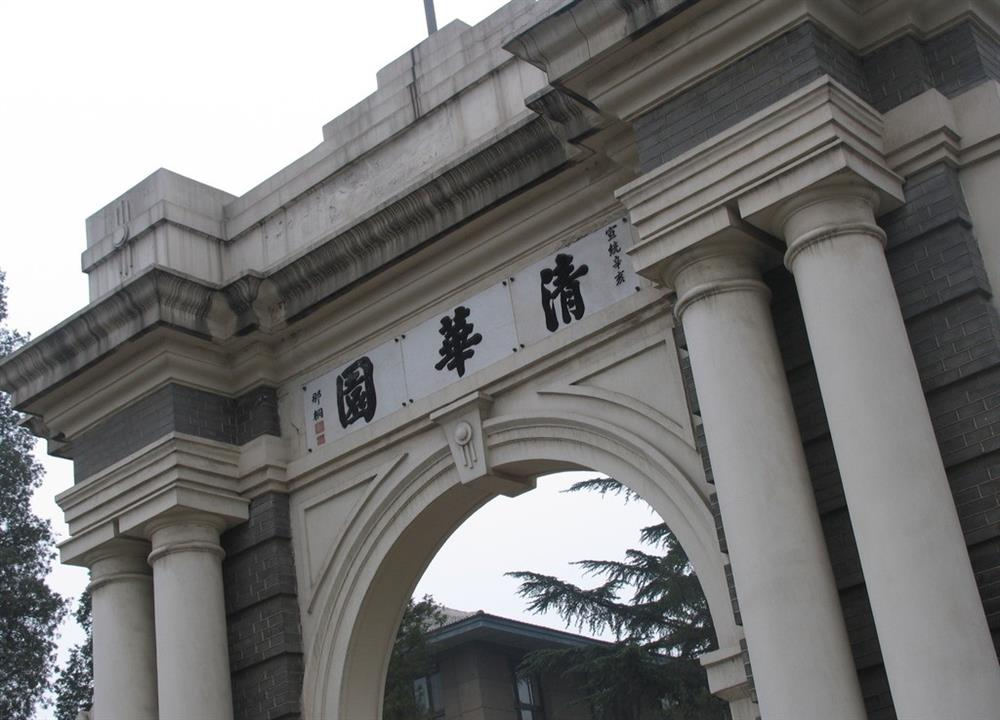Tsinghua_old_gate: (5, 5, 994, 711)
